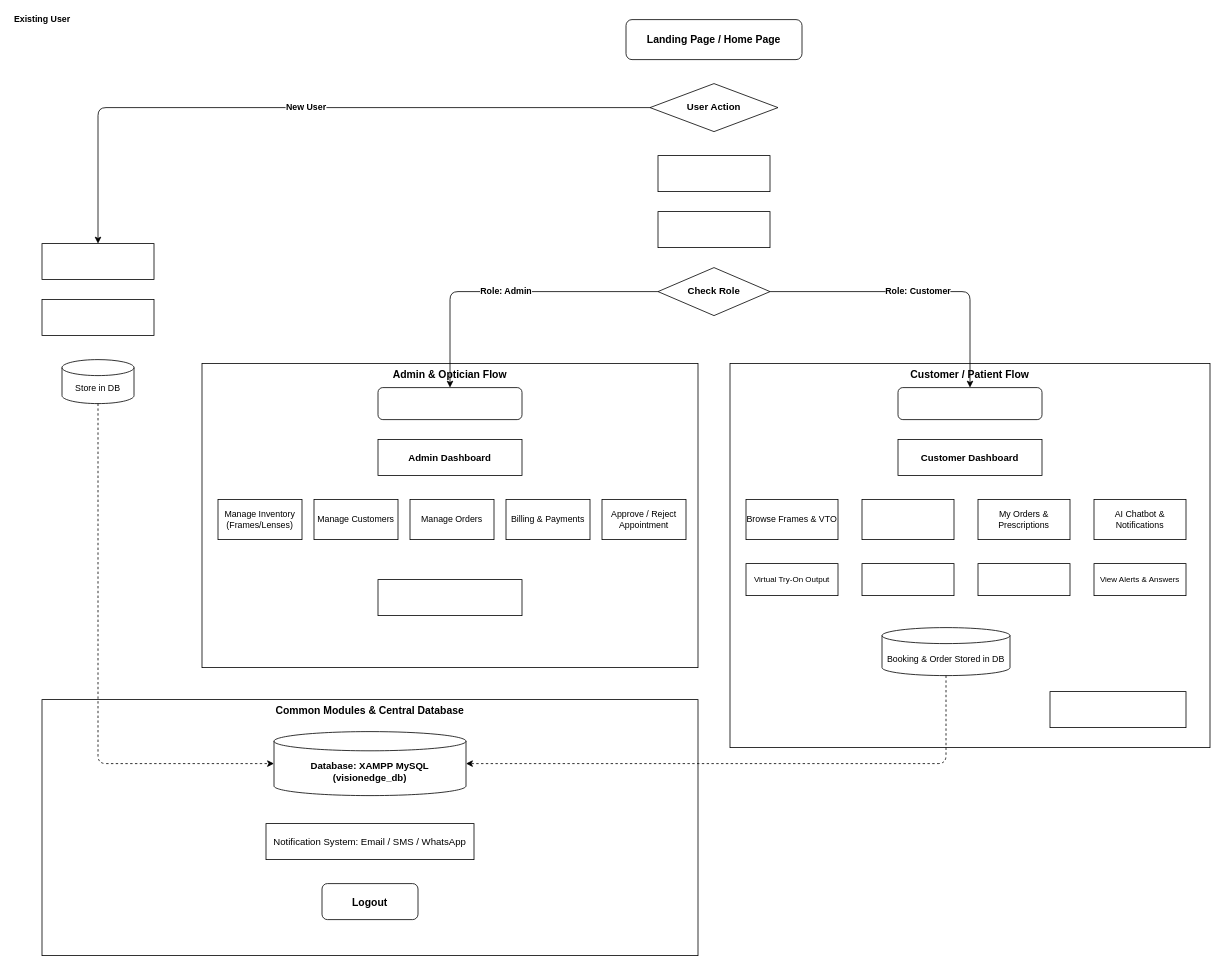
Some shapes in this 1224 by 970 pixel diagram are drawn without their labels. The centre of each missing label's shape, as x and y in pixels:
"Add / Edit / Delete Data" goes at pixel 449 597.
"Admin / Optician Login" goes at pixel 449 403.
"Appointment Request" goes at pixel 907 579.
"Authenticate User" goes at pixel 713 229.
"Book Eye Test Appointment" goes at pixel 907 519.
"Customer Login" goes at pixel 969 403.
"Enter Details & Password" goes at pixel 97 317.
"Login" goes at pixel 713 173.
"Prescription Details" goes at pixel 1023 579.
"Register" goes at pixel 97 261.
"Waiting for Order Fulfillment" goes at pixel 1117 709.
